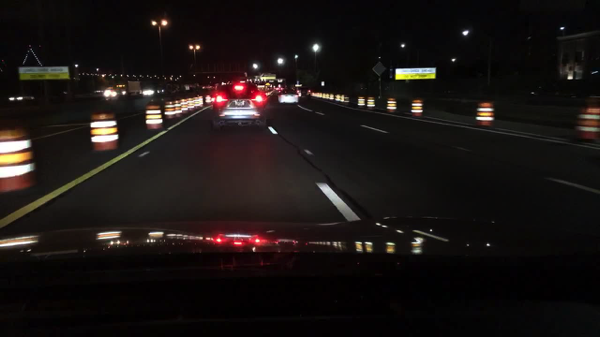car: (210, 82, 268, 132), (275, 87, 300, 107), (139, 83, 167, 100), (291, 83, 312, 102), (10, 92, 37, 103), (202, 83, 215, 91), (256, 84, 268, 90), (263, 84, 273, 91), (274, 86, 282, 93), (273, 87, 282, 91)
traffic sign: (19, 67, 71, 81), (394, 67, 437, 81), (372, 62, 387, 76), (256, 74, 277, 81), (184, 83, 191, 90), (276, 78, 284, 83), (319, 81, 324, 88)
truck: (100, 77, 141, 101)
